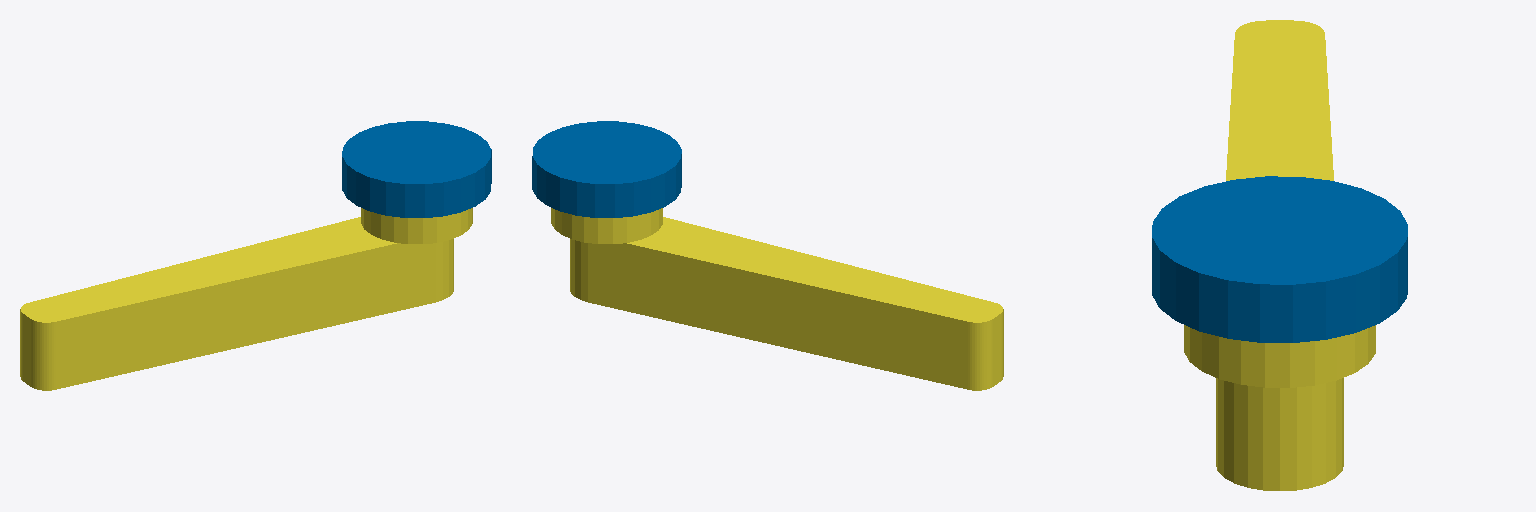
The robot description file, URDF, robot "window":
<?xml version="1.0" ?>
<robot name="window">
	<link name="base"/>
	<link name="link_0">
		<visual name="out-frame">
			<origin xyz="0 0 0"/>
			<geometry>
				<mesh filename="texture_dae/untitled.dae" scale="0.5 0.5 0.5"/>
			</geometry>
		</visual>
		<collision>
			<origin xyz="0 0 0"/>
			<geometry>
				<mesh filename="texture_dae/untitled.dae" scale="0.5 0.5 0.5"/>
			</geometry>
		</collision>
	</link>
	<joint name="joint_0" type="fixed">
		<origin rpy="1.570796326794897 0 -1.570796326794897" xyz="0 0 0"/>
		<child link="link_0"/>
		<parent link="base"/>
	</joint>
	<link name="link_1">
		<visual name="surf-board">
			<origin xyz="0.30546158315543975 -0.5833843402065071 0"/>
			<geometry>
				<mesh filename="texture_dae/untitled1.dae" scale="0.5 0.5 0.5"/>
			</geometry>
		</visual>
		<collision>
			<origin xyz="0.30546158315543975 -0.5833843402065071 0"/>
			<geometry>
				<mesh filename="texture_dae/untitled1.dae" scale="0.5 0.5 0.5"/>
			</geometry>
		</collision>
	</link>
	<joint name="joint_1" type="revolute">
		<origin xyz="-0.30546158315543975 0.5833843402065071 0"/>
		<axis xyz="0 -1 0"/>
		<child link="link_1"/>
		<parent link="link_0"/>
		<limit lower="0" upper="1.5079644737231006"/>
	</joint>
	<link name="link_2">
		<visual name="handle">
			<origin xyz="0 0 0"/>
			<geometry>
				<mesh filename="texture_dae/9969537-handle.dae" scale="1.1117859809046424 1.1117859809046424 1.1117859809046424"/>
			</geometry>
		</visual>
		<collision>
			<origin xyz="0 0 0"/>
			<geometry>
				<mesh filename="texture_dae/9969537-handle.dae" scale="1.1117859809046424 1.1117859809046424 1.1117859809046424"/>
			</geometry>
		</collision>
	</link>
	<joint name="joint_2" type="revolute">
		<origin xyz="0 0 0"/>
		<child link="link_2"/>
		<parent link="link_3"/>
		<axis xyz="0 0 1"/>
		<limit lower="0" upper="1.5079644737231006"/>
	</joint>
	<link name="link_3">
		<visual name="lock">
			<origin xyz="0 0 0"/>
			<geometry>
				<mesh filename="texture_dae/9969537-lock.dae" scale="1.1117859809046424 1.1117859809046424 1.1117859809046424"/>
			</geometry>
		</visual>
		<collision>
			<origin xyz="0 0 0"/>
			<geometry>
				<mesh filename="texture_dae/9969537-lock.dae" scale="1.1117859809046424 1.1117859809046424 1.1117859809046424"/>
			</geometry>
		</collision>
	</link>
	<joint name="joint_3" type="fixed">
		<origin xyz="0.57960002006893 -0.5833843402065071 0.028971898873196622"/>
		<child link="link_3"/>
		<parent link="link_1"/>
	</joint>
</robot>

--- Render facts (derived) ---
3 views of the same robot in one strip: view 1: azimuth 30°, elevation 25°; view 2: azimuth 150°, elevation 25°; view 3: azimuth 270°, elevation 25° (orthographic).
Robot: window — 5 links, 4 joints (2 revolute, 2 fixed); root link base; default pose: all joints at 0.
Links seen in each view (by area): view 1: link_2, link_3; view 2: link_2, link_3; view 3: link_3, link_2.
Link boxes in pixels (box(x1,y1,x2,y2)): link_2: box(20, 208, 472, 390); link_3: box(342, 121, 491, 217); link_2: box(551, 208, 1003, 390); link_3: box(532, 121, 681, 217); link_3: box(1152, 176, 1407, 342); link_2: box(1184, 20, 1375, 490).
Bounding box of the posed robot: 0.1555 × 0.0442 × 0.0445 m (x, y, z).
Meshes: 4 distinct files referenced, 2 mesh visuals loaded (2 Collada DAE); not drawn: 2 (reference not matched to a file when rendering).
